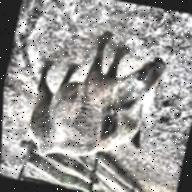boar: (10, 14, 192, 192)
